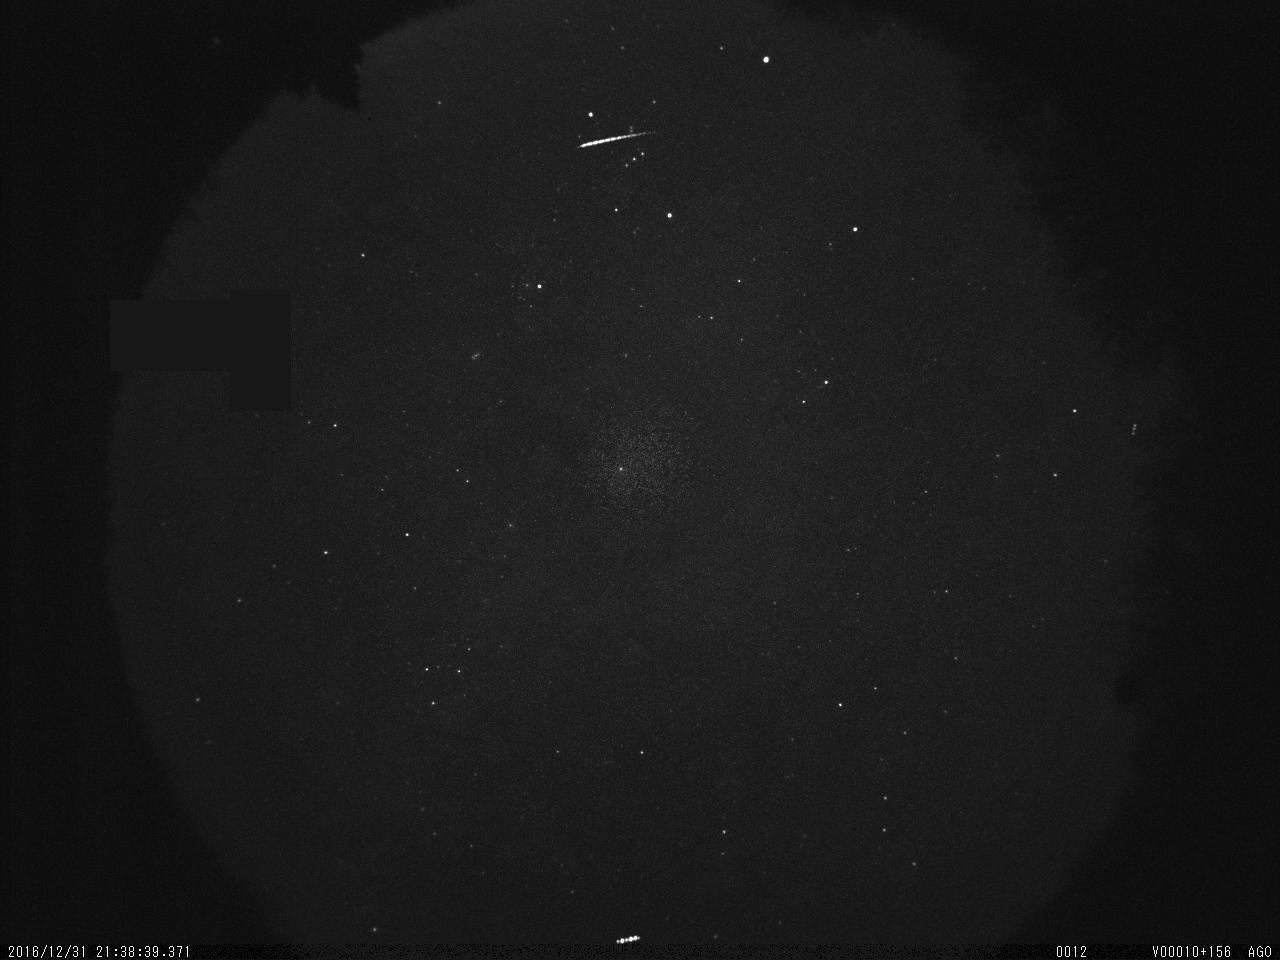meteor: (571, 124, 663, 153)
satelite: (611, 929, 642, 947)
